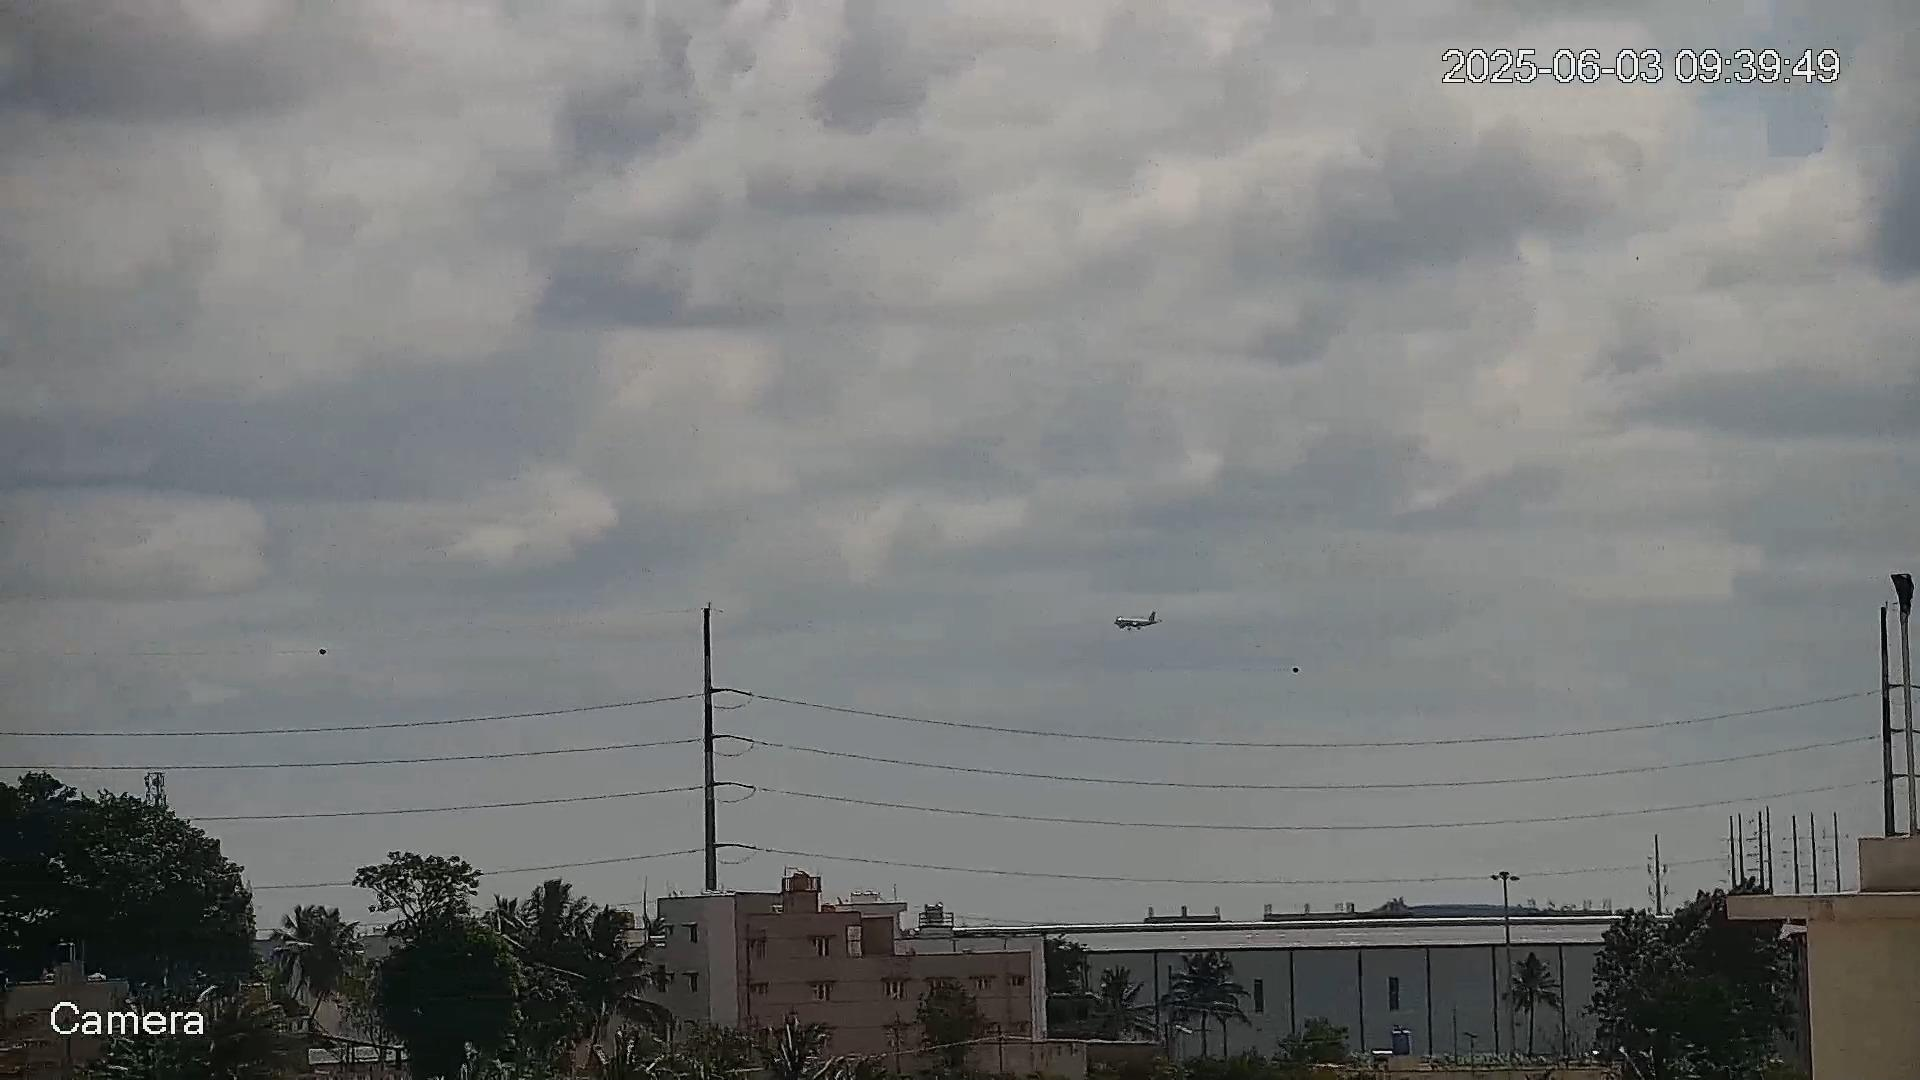Aircraft: (1113, 609, 1159, 632)
